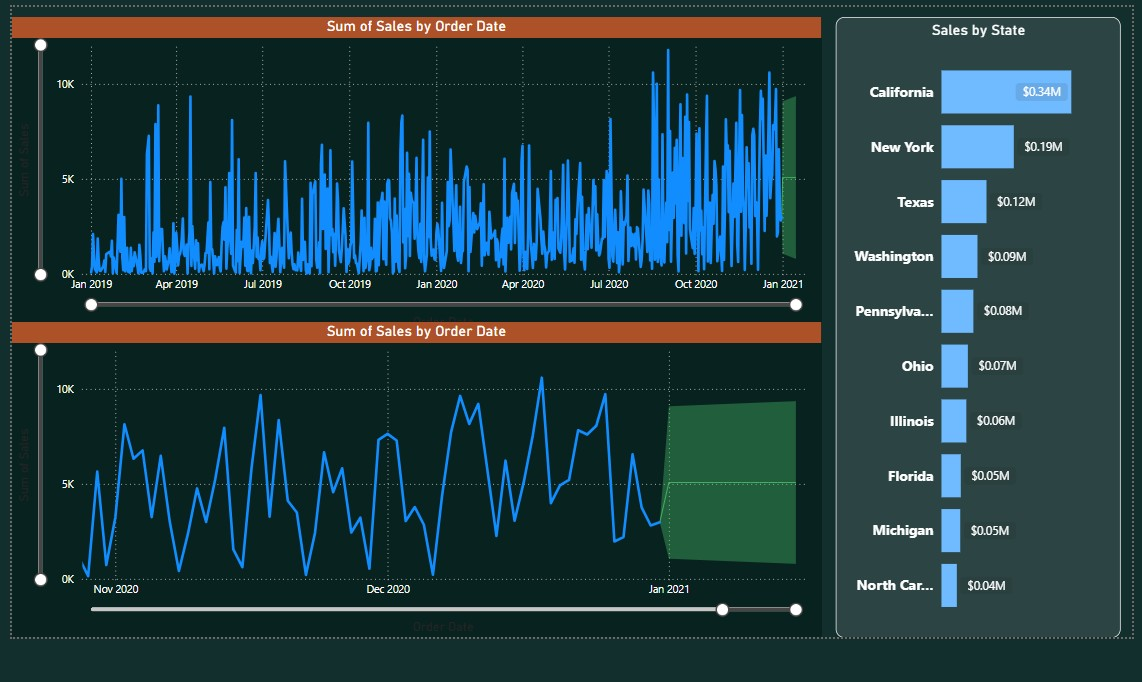

The dashboard page shown, as its layout file describes it:
{"tool":"powerbi","page":{"name":"FORECAST SALES DASHBOARD","canvas":[1280,720],"ordinal":1},"visuals":[{"type":"lineChart","fields":{"Y":["Sum(Sheet1.Sales)"],"Category":["Sheet1.Order Date"]},"box":[0,11,924.5,360.7],"z":0},{"type":"lineChart","fields":{"Y":["Sum(Sheet1.Sales)"],"Category":["Sheet1.Order Date"]},"box":[0,359.5,924.5,360.7],"z":1000},{"type":"clusteredBarChart","title":"Sales by State","fields":{"Category":["Sheet1.State"],"Y":["Sum(Sheet1.Sales)"]},"box":[941.3,11,325.2,709.4],"z":2000}]}

Visuals, with their boxes on the page's 1280x720 design canvas (x1, y1, x2, y2). These are canvas units, not pixel positions in the 1142x682 screenshot, which may show the page scaled, cropped or inside an application window:
lineChart - Sum(Sheet1.Sales) x Sheet1.Order Date: [0, 11, 924, 372]
lineChart - Sum(Sheet1.Sales) x Sheet1.Order Date: [0, 360, 924, 720]
"Sales by State" clusteredBarChart: [941, 11, 1266, 720]
